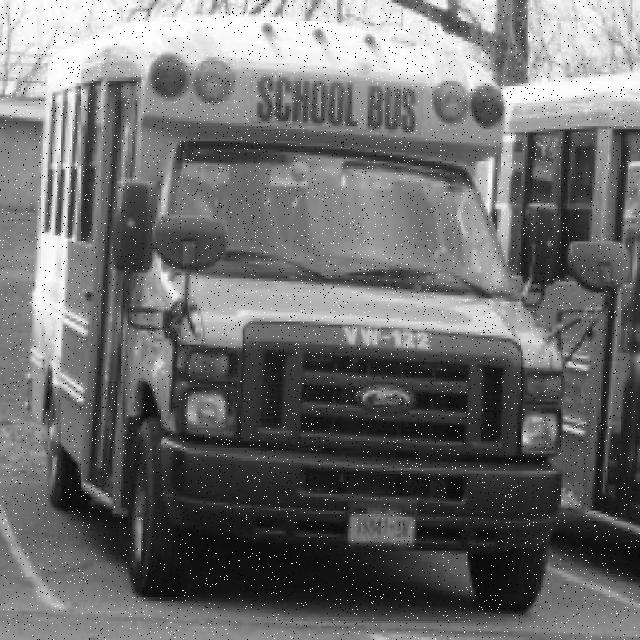Bus- Small: (29, 6, 629, 615)
